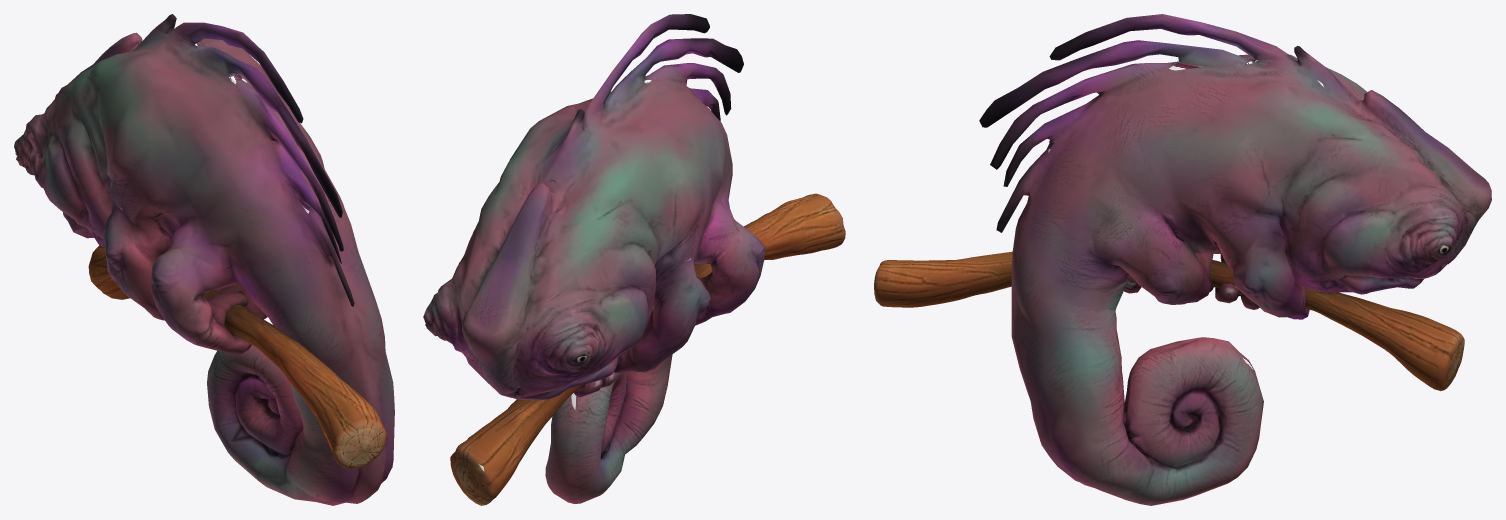
The model's file is chameleon.glb.
3 renders of one model, left to right at view 1: azimuth 30°, elevation 25°; view 2: azimuth 150°, elevation 25°; view 3: azimuth 270°, elevation 25°, orthographic. The views are drawn at different scales.
Parts seen in each view (by area): view 1: Object_2, Object_3; view 2: Object_2, Object_3; view 3: Object_2, Object_3.
Part boxes in pixels (<box>): Object_2: <box>14,14,394,505</box>; Object_3: <box>88,245,386,468</box>; Object_2: <box>423,14,765,503</box>; Object_3: <box>450,193,845,505</box>; Object_2: <box>979,14,1491,505</box>; Object_3: <box>874,251,1464,391</box>.
Bounding box in the file's own units: 2.77 × 5.95 × 7.26.
3 materials, 3 textured.
